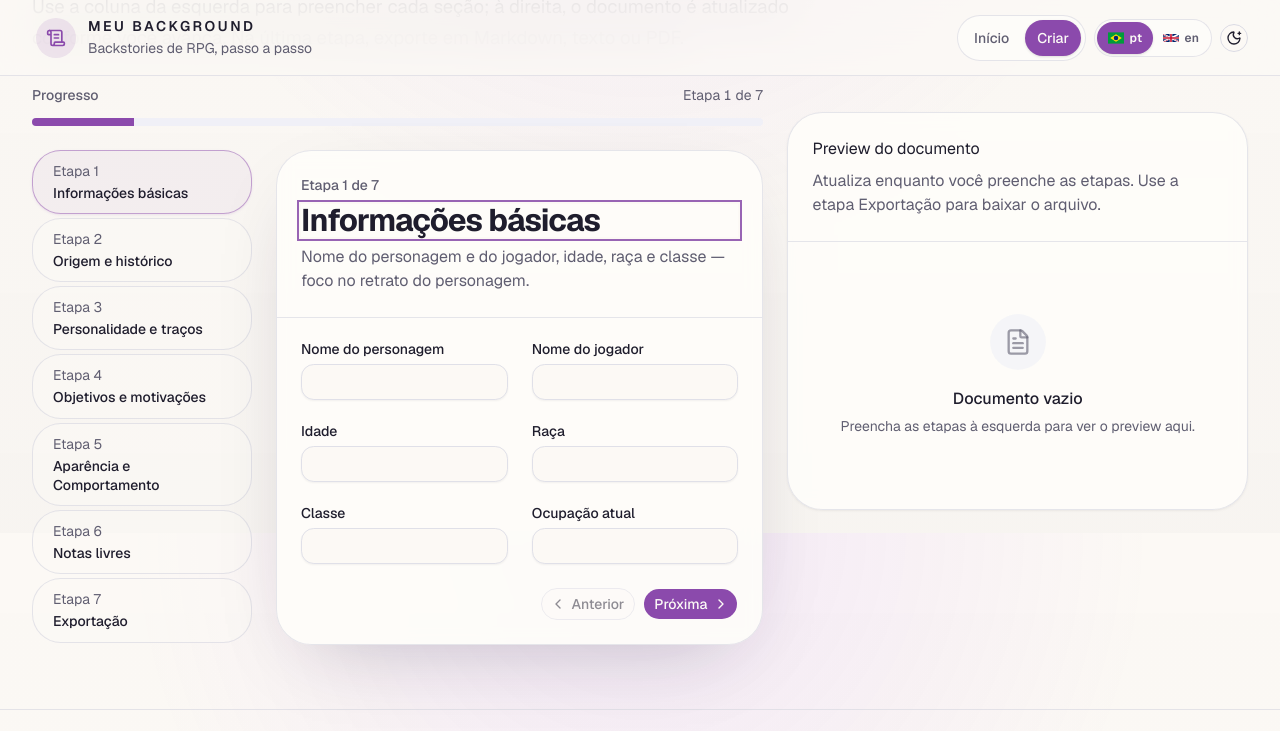
Test case: Character form wizard › should scroll the progress region into view when selecting a step in the rail
(page scrolled)
Expected: the form is shown, [32,85,764,646]
Click the button "Etapa 3 Personalidade e traços": [142, 318] box [32,286,252,350]
(page scrolled)
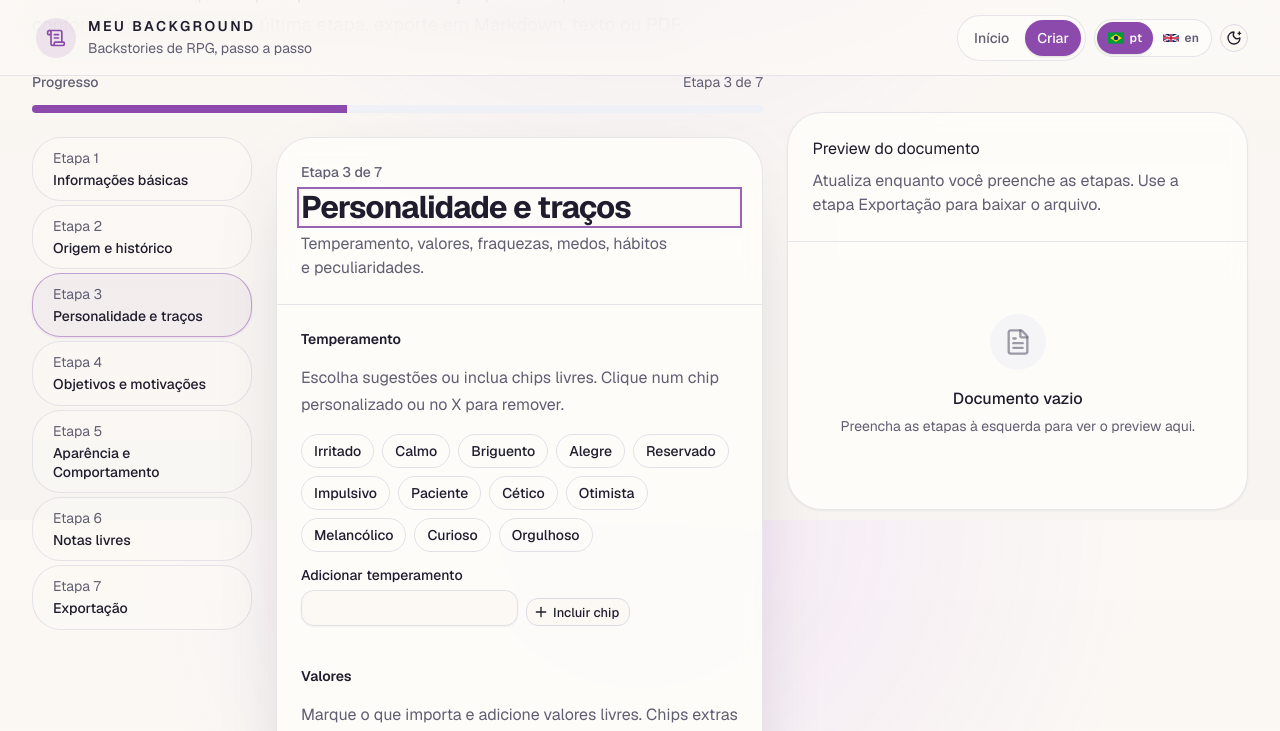
Expected: the heading with test id "wizard-step-title" reads "Personalidade e traços", [301,187,631,227]
